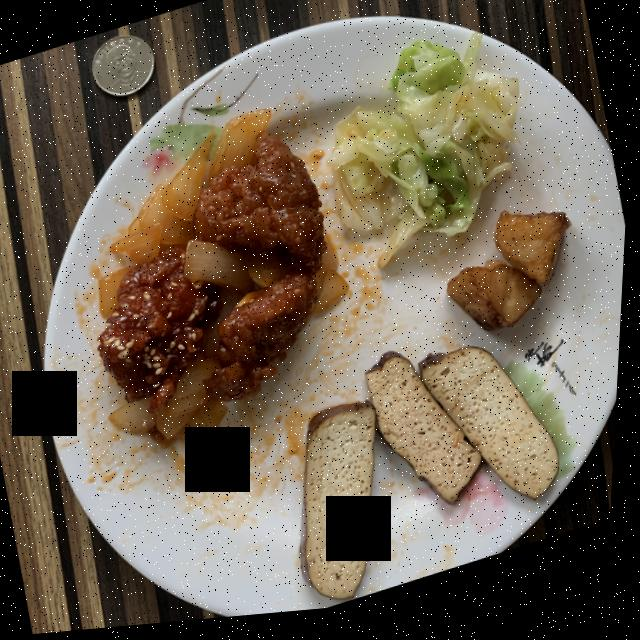cabbage: (330, 41, 521, 274)
coin: (93, 37, 155, 98)
firm tofu: (307, 355, 564, 605)
fried potato: (450, 220, 573, 340)
